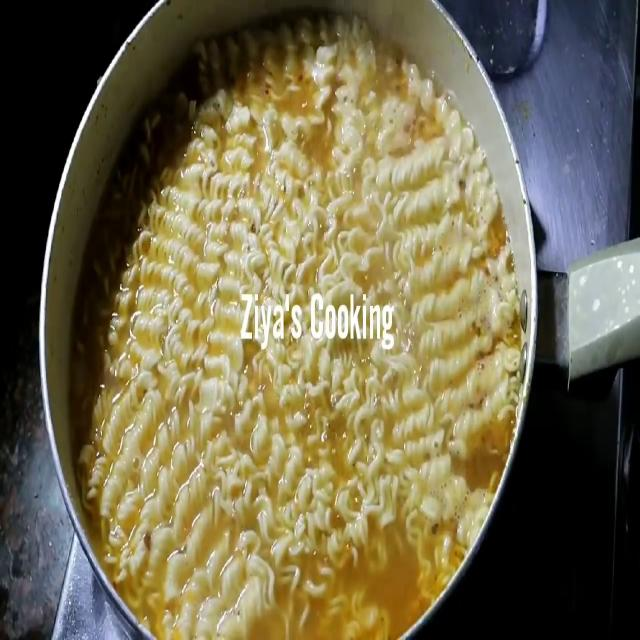Wet Waste: (113, 45, 489, 602)
